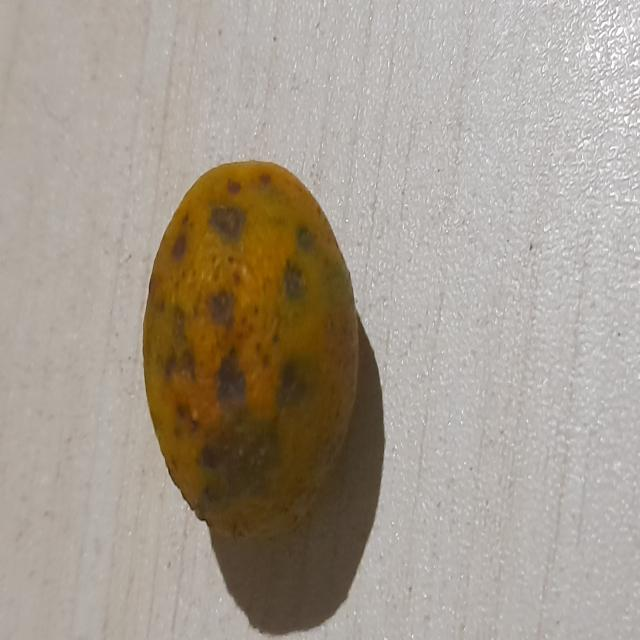black spot: (141, 150, 374, 553)
